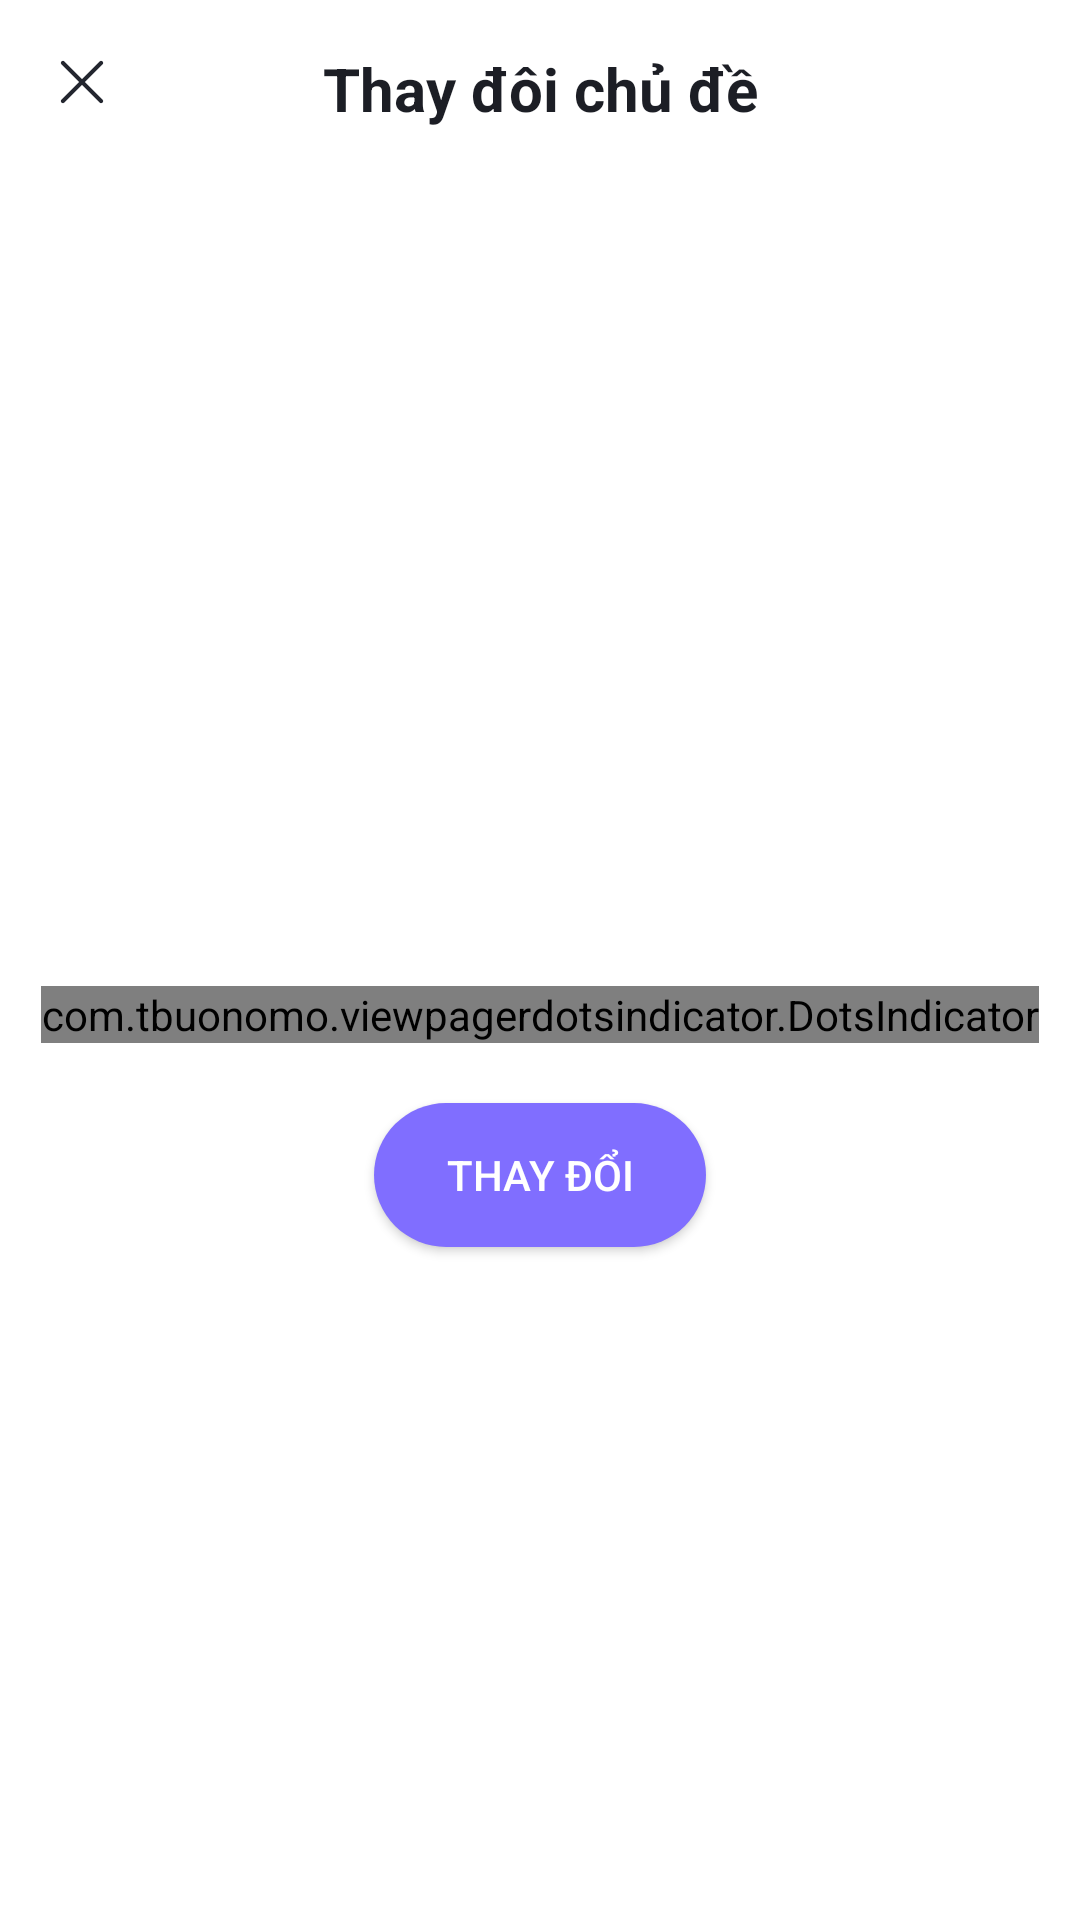

Icons on this 1080w x 1920h Android screen, each with its box as (x1, y1, x2, y2):
cancel: (61, 61, 103, 103)
